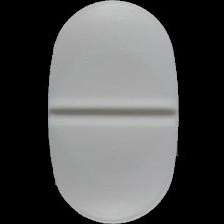67386-315: (0, 0, 224, 224)
